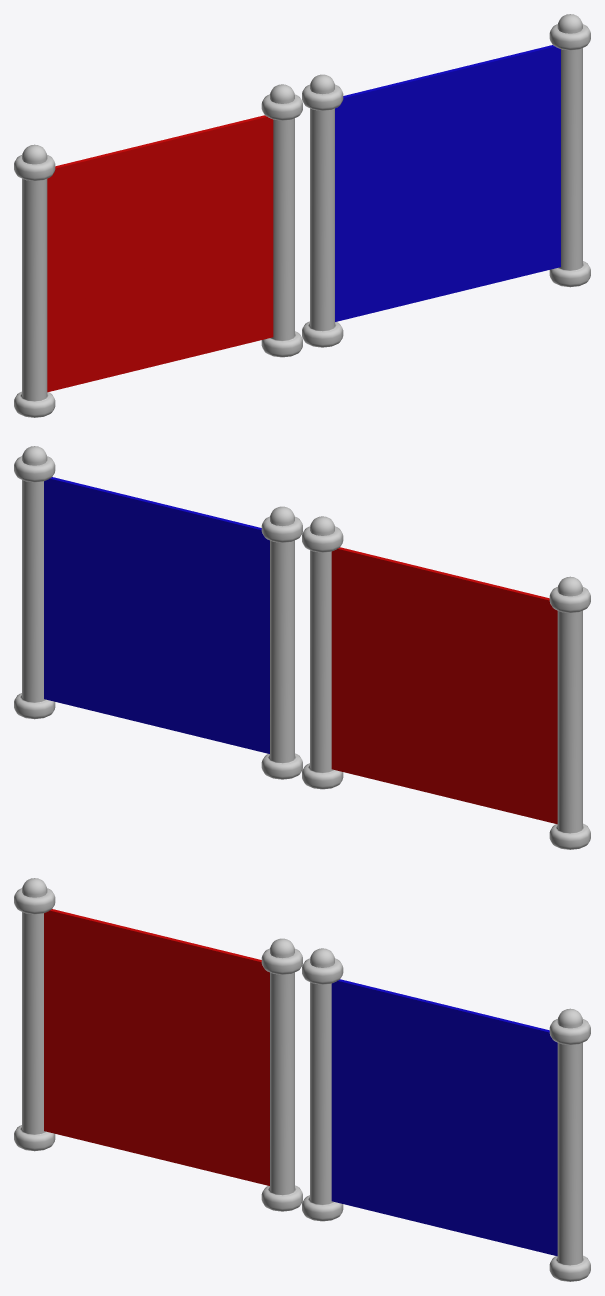
File: red-blue gate.fbx
The picture shows the model from 3 angles, top to bottom: view 1: azimuth 30°, elevation 25°; view 2: azimuth 150°, elevation 25°; view 3: azimuth 330°, elevation 25°; orthographic projection.
Visible parts, largest first — view 1: gate (×2), columa (×2), columb (×2); view 2: gate (×2), columa (×2), columb (×2); view 3: gate (×2), columb (×2), columa (×2).
Part boxes in pixels (x1,y1,x2,y2): gate (×2): (47,45,560,392); columa (×2): (14,74,343,417); columb (×2): (261,14,590,357); gate (×2): (44,477,557,824); columa (×2): (261,506,590,849); columb (×2): (14,446,343,789); gate (×2): (44,909,557,1256); columb (×2): (261,938,590,1281); columa (×2): (14,878,343,1221).
Size of the model in its own units: 298 by 132 by 18.67.
